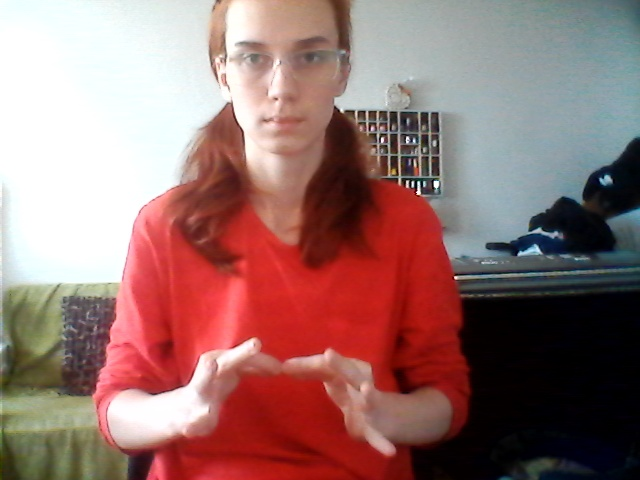b: (176, 333, 405, 470)
